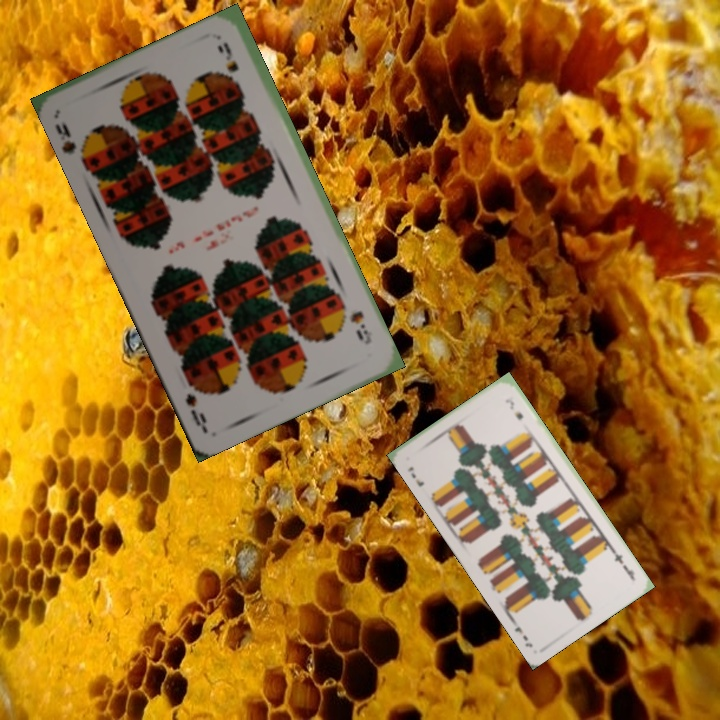E7: (608, 546, 637, 582), (404, 462, 427, 489)
S9: (51, 117, 94, 167), (346, 306, 376, 348)
